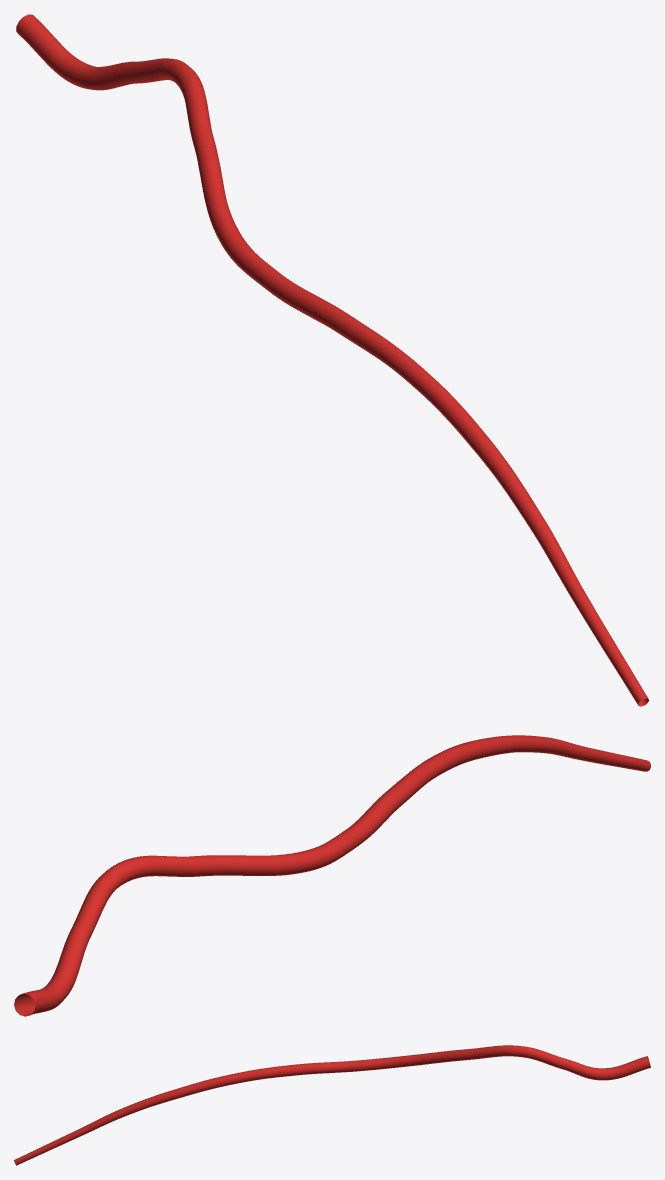
Rendered from circulatorio-medial-plantar-artery-l.glb.
The picture shows the model from 3 angles, top to bottom: view 1: azimuth 30°, elevation 25°; view 2: azimuth 150°, elevation 25°; view 3: azimuth 270°, elevation 25°; orthographic projection. The views are drawn at different scales.
Visible parts, largest first — view 1: Superficial branch of medial plantar artery.l, Medial plantar artery.l; view 2: Medial plantar artery.l, Superficial branch of medial plantar artery.l; view 3: Superficial branch of medial plantar artery.l, Medial plantar artery.l.
Part boxes in pixels (x1,y1,x2,y2): Superficial branch of medial plantar artery.l: (220, 229, 648, 706); Medial plantar artery.l: (16, 14, 239, 242); Medial plantar artery.l: (14, 851, 311, 1016); Superficial branch of medial plantar artery.l: (302, 735, 650, 871); Superficial branch of medial plantar artery.l: (14, 1056, 400, 1165); Medial plantar artery.l: (399, 1045, 650, 1080).
Bounding box in the file's own units: 0.0093 × 0.0235 × 0.1044.
